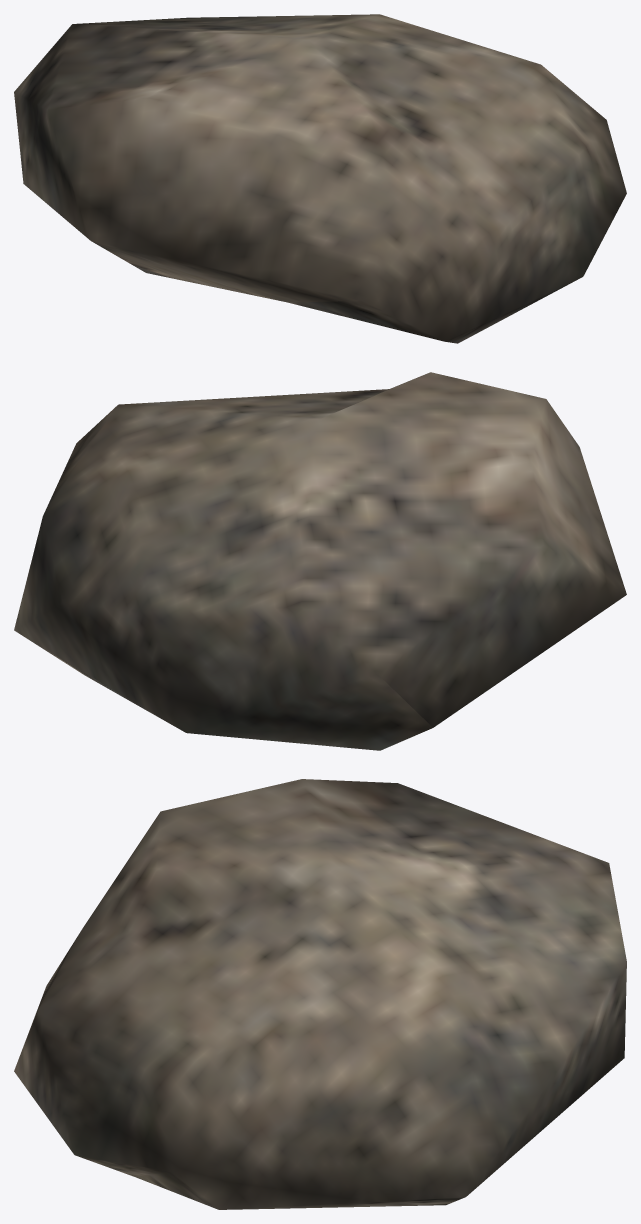
File: Rock6B.FBX
The picture shows the model from 3 angles, top to bottom: view 1: azimuth 30°, elevation 25°; view 2: azimuth 150°, elevation 25°; view 3: azimuth 270°, elevation 25°; orthographic projection. The views are drawn at different scales.
Parts seen in each view (by area): view 1: Rock6B; view 2: Rock6B; view 3: Rock6B.
Part boxes in pixels (bbox=[...]): Rock6B: bbox=[14, 14, 626, 343]; Rock6B: bbox=[14, 372, 626, 750]; Rock6B: bbox=[14, 779, 626, 1209].
Size of the model in its own units: 2.07 by 0.9021 by 1.99.
